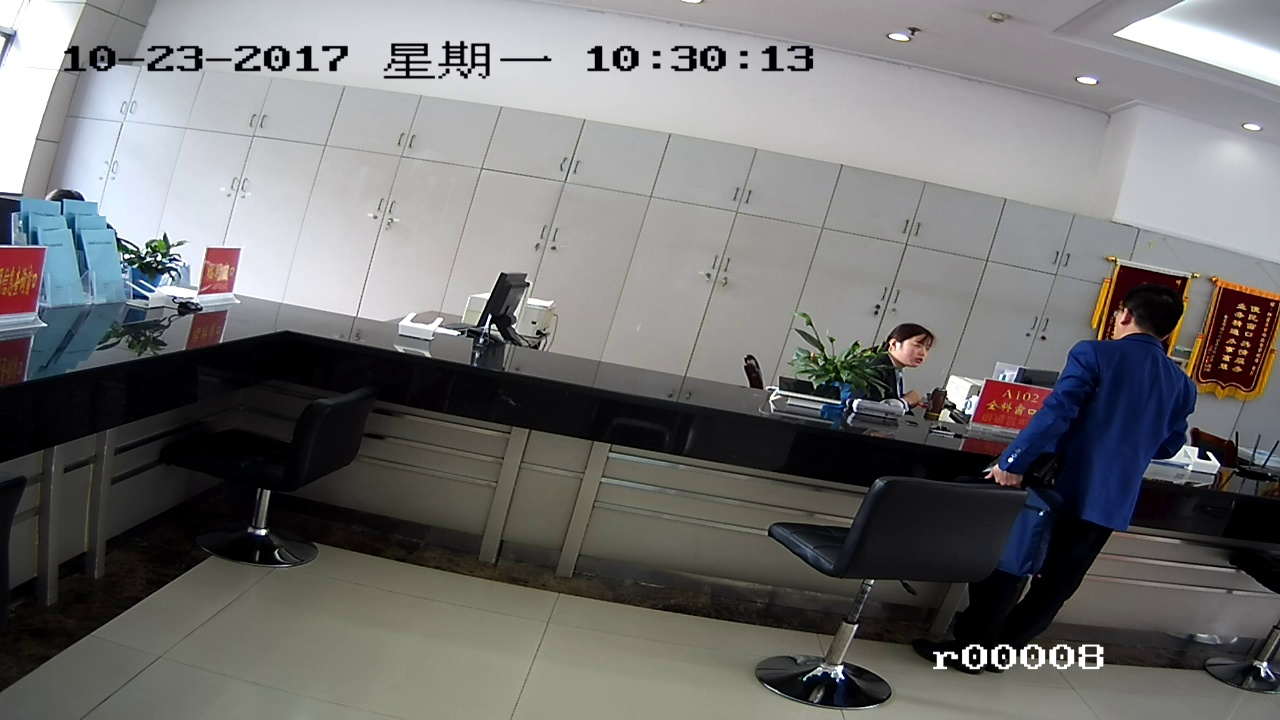billboard: (1206, 286, 1271, 400)
chair: (758, 486, 1021, 708), (185, 372, 380, 584)
monitor: (476, 272, 536, 351)
person: (1032, 274, 1194, 668), (875, 309, 947, 376)
pot: (803, 335, 884, 411)
